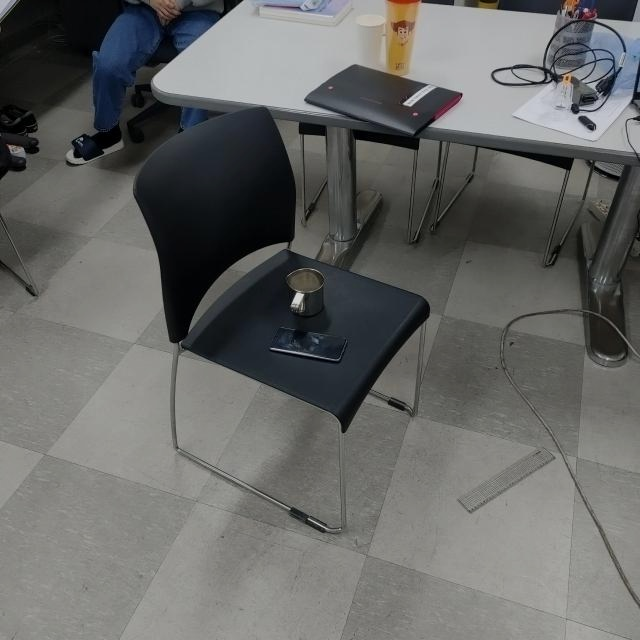cup: (284, 267, 326, 318)
phone: (268, 324, 348, 363)
